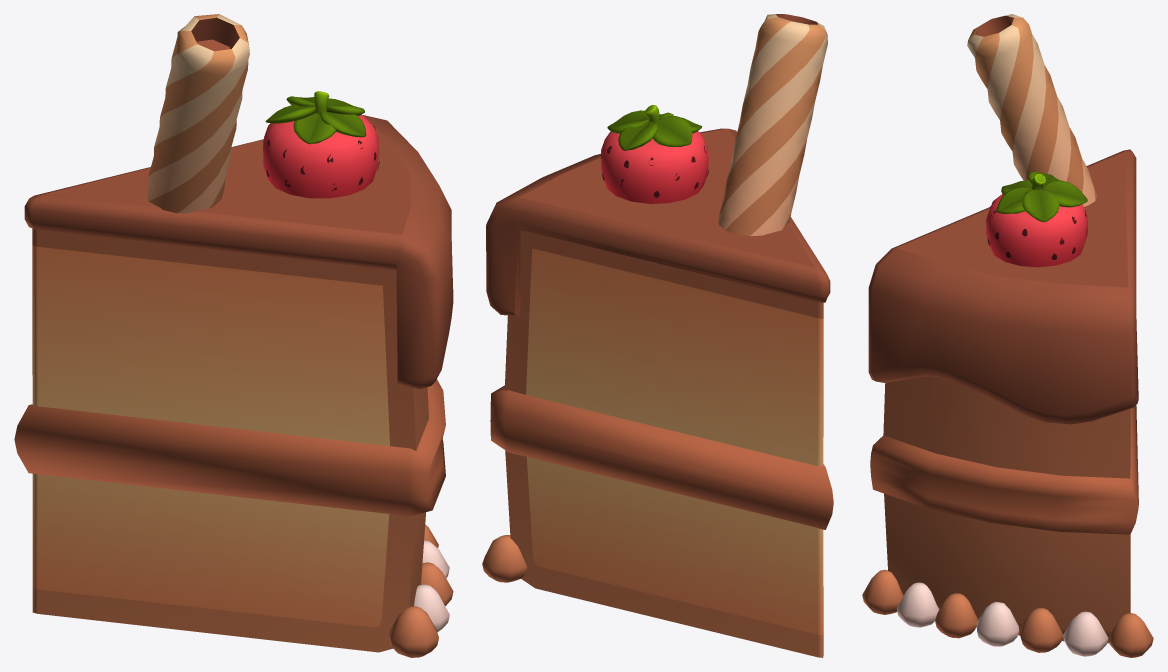
Rendered from Cake_Chocolate_Slice_V3_01.fbx.
3 renders of one model, left to right at view 1: azimuth 30°, elevation 25°; view 2: azimuth 150°, elevation 25°; view 3: azimuth 270°, elevation 25°, orthographic. The views are drawn at different scales.
Parts seen in each view (by area): view 1: Cake_Chocolate_Slice_V3_01; view 2: Cake_Chocolate_Slice_V3_01; view 3: Cake_Chocolate_Slice_V3_01.
Boxes of the visible parts, box(x1,y1,x2,y2) form: Cake_Chocolate_Slice_V3_01: box(14, 14, 453, 657); Cake_Chocolate_Slice_V3_01: box(482, 14, 833, 657); Cake_Chocolate_Slice_V3_01: box(862, 14, 1153, 657).
Bounding box in the file's own units: 33.88 × 52.45 × 25.84.
